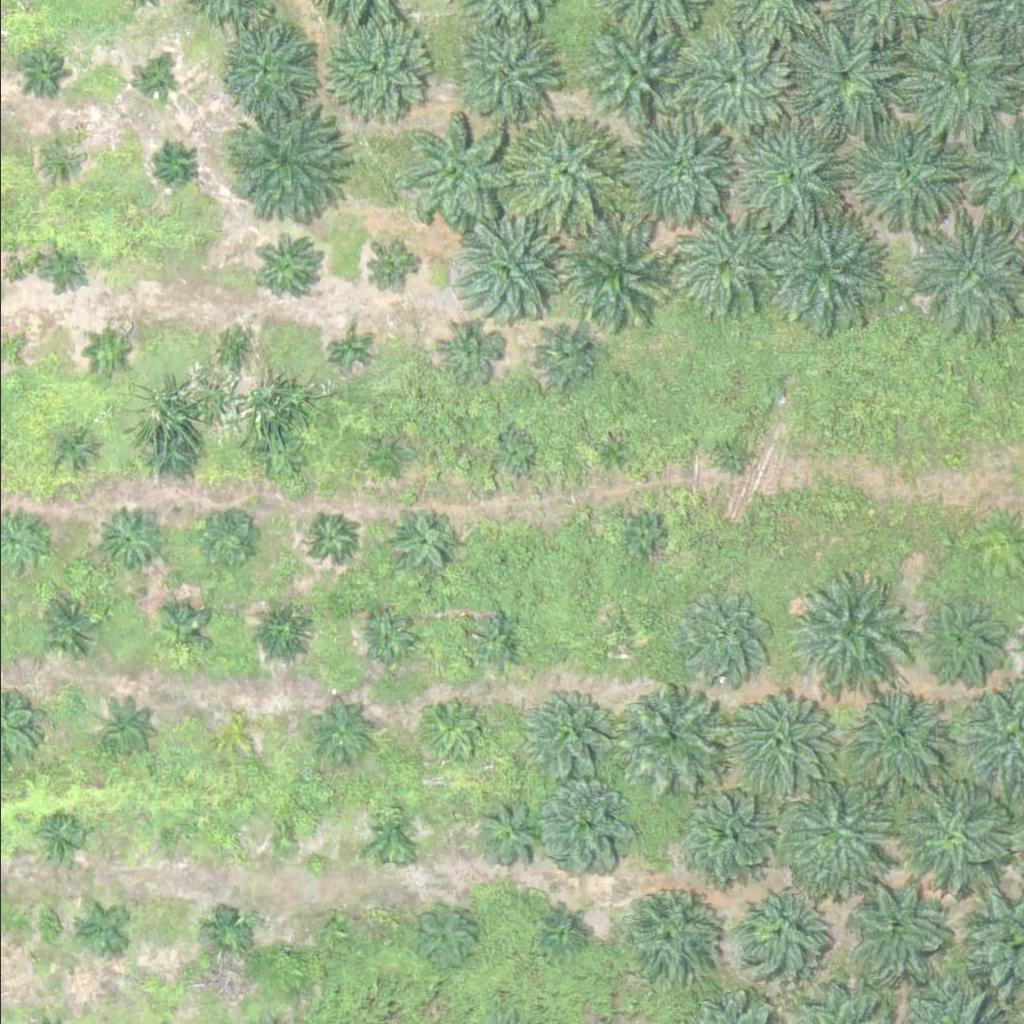Kelapa_Sawit: (881, 15, 1007, 140), (778, 9, 904, 134), (656, 17, 782, 142), (605, 104, 731, 229), (719, 112, 845, 237), (840, 107, 966, 232), (757, 205, 883, 330), (537, 216, 663, 341), (786, 565, 912, 690), (772, 777, 897, 902), (218, 106, 343, 231), (616, 676, 729, 789), (898, 780, 1011, 893), (403, 118, 516, 231), (317, 7, 430, 120), (720, 683, 833, 795), (443, 215, 556, 327), (508, 119, 621, 231), (667, 216, 768, 316), (672, 586, 773, 686), (844, 689, 945, 789), (672, 787, 773, 887), (844, 877, 945, 977), (727, 879, 828, 979), (614, 877, 715, 977), (537, 782, 638, 882), (218, 17, 319, 117), (453, 23, 554, 123), (583, 27, 672, 114), (920, 598, 1008, 685), (517, 695, 605, 782), (187, 498, 263, 573), (252, 230, 327, 305), (407, 896, 482, 971), (136, 421, 199, 484), (437, 317, 500, 380), (535, 327, 598, 390), (307, 701, 370, 764), (252, 600, 315, 663), (462, 610, 525, 673), (95, 506, 158, 568), (35, 596, 98, 658), (90, 704, 153, 766), (393, 507, 456, 569), (480, 803, 543, 865), (417, 701, 480, 763), (44, 425, 95, 475), (359, 244, 410, 294), (369, 809, 420, 859), (250, 432, 301, 482), (78, 906, 128, 956), (156, 606, 206, 656), (35, 813, 85, 863), (19, 49, 69, 99), (304, 514, 354, 564), (363, 608, 413, 658), (198, 908, 248, 958), (40, 245, 90, 295), (87, 339, 125, 377), (159, 146, 197, 184), (314, 916, 352, 954), (496, 432, 534, 470), (594, 436, 632, 474), (713, 437, 751, 475), (370, 439, 408, 477), (133, 63, 171, 100), (539, 914, 576, 952), (601, 622, 638, 660), (620, 518, 658, 555), (35, 140, 73, 177), (326, 330, 363, 367), (216, 334, 253, 371), (158, 827, 183, 852), (274, 827, 299, 852), (220, 722, 245, 747), (483, 549, 508, 574)
